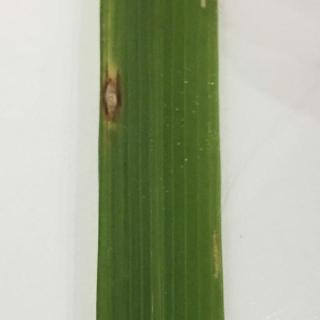Blast: (98, 59, 126, 121)
